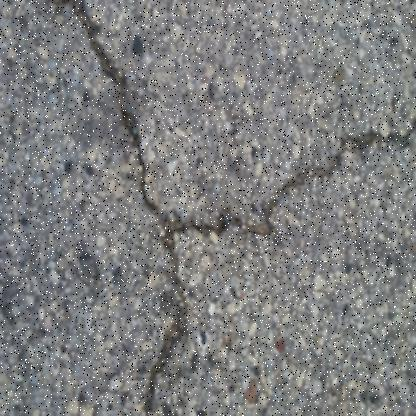Cracks: (45, 0, 192, 416), (163, 100, 416, 255)
